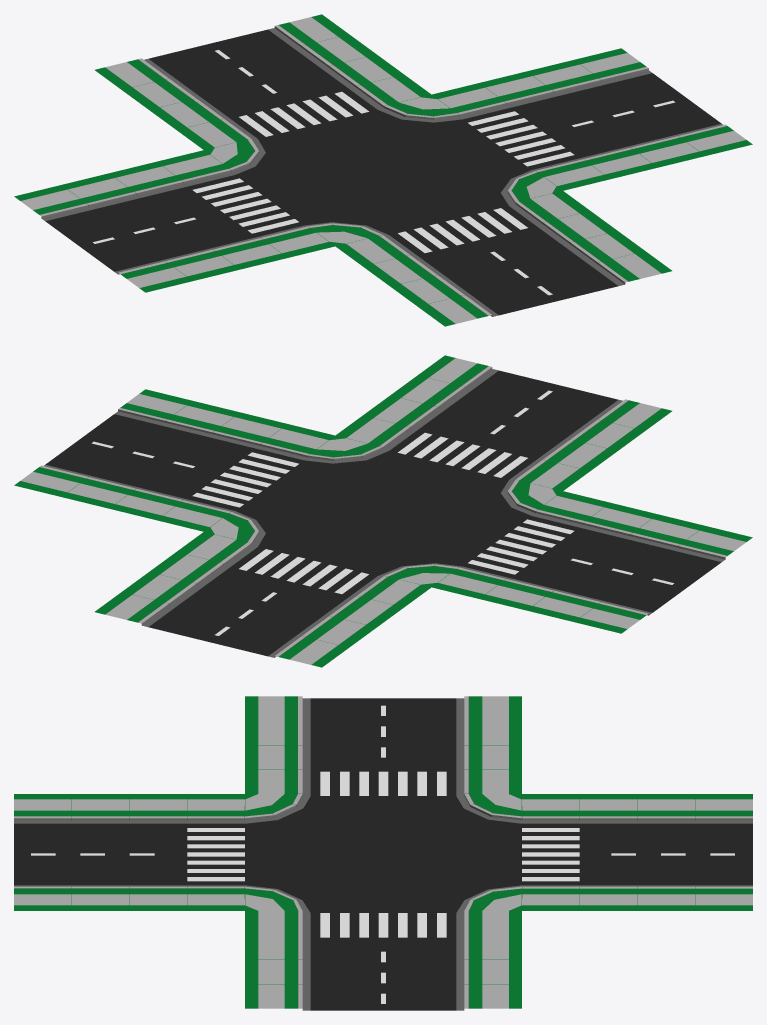
Rendered from Road-X-H.fbx.
3 views of the same model, one above another, from view 1: azimuth 30°, elevation 25°; view 2: azimuth 150°, elevation 25°; view 3: azimuth 270°, elevation 25° (orthographic). The views are drawn at different scales.
Parts seen in each view (by area): view 1: Road, Sides; view 2: Road, Sides; view 3: Road, Sides.
Boxes of the visible parts, x1,y1,x2,y2 form: Road: (41, 28, 722, 316); Sides: (14, 14, 752, 326); Road: (44, 369, 725, 657); Sides: (14, 355, 752, 667); Road: (14, 698, 752, 1010); Sides: (14, 696, 752, 1008).
Size of what is drawn, in the model's own units: 64 by 0.2 by 64.
